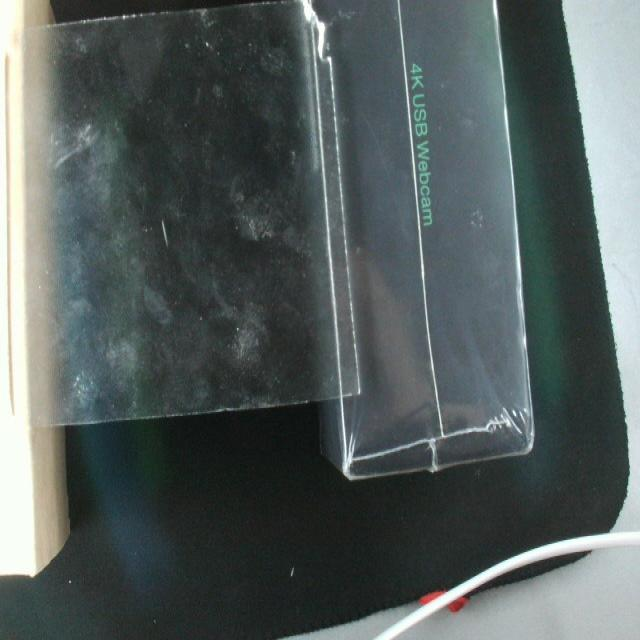edge_chip: (292, 0, 337, 73), (210, 398, 239, 418)
scratch: (156, 214, 174, 248)
